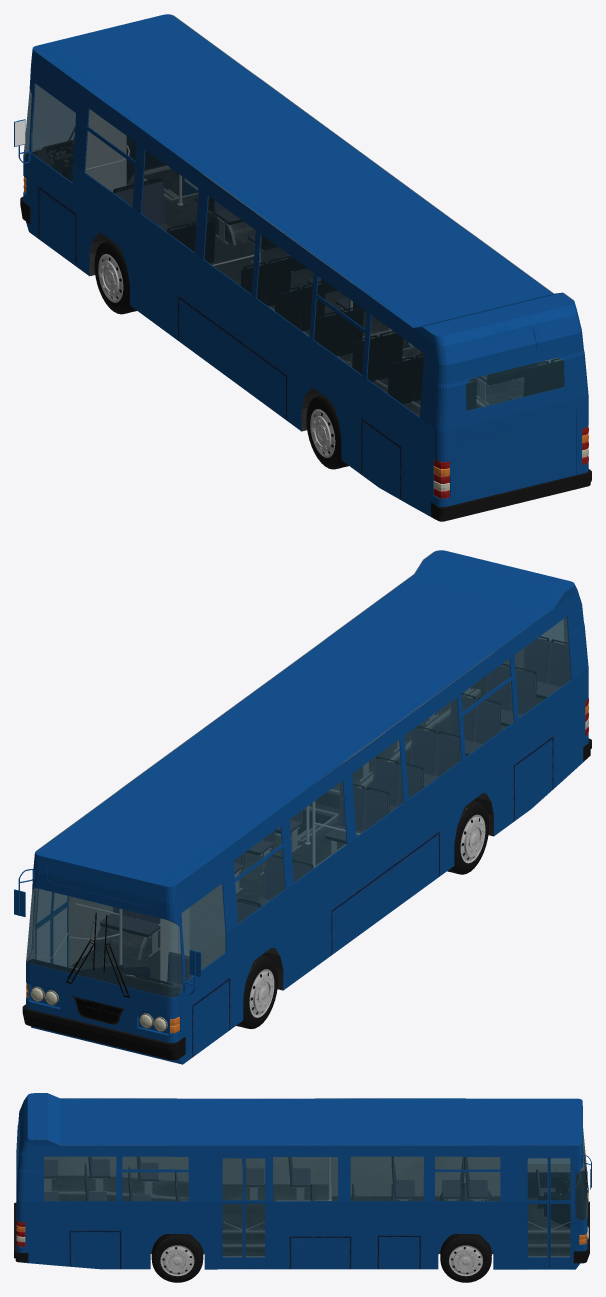
File: bus_fc497f.glb
The picture shows the model from 3 angles, top to bottom: view 1: azimuth 30°, elevation 25°; view 2: azimuth 150°, elevation 25°; view 3: azimuth 270°, elevation 25°; orthographic projection. The views are drawn at different scales.
Visible parts, largest first — view 1: body, wheel_fl, wheel_rl; view 2: body, wheel_fl, wheel_rl; view 3: body, wheel_fr, wheel_rr.
Part boxes in pixels (bbox=[...]): body: bbox=[14, 14, 591, 521]; wheel_fl: bbox=[92, 237, 136, 314]; wheel_rl: bbox=[306, 394, 348, 469]; body: bbox=[14, 550, 591, 1064]; wheel_fl: bbox=[236, 954, 277, 1028]; wheel_rl: bbox=[447, 800, 489, 874]; body: bbox=[14, 1093, 591, 1272]; wheel_fr: bbox=[440, 1234, 491, 1282]; wheel_rr: bbox=[151, 1234, 203, 1282].
Size of the model in its own units: 2.86 by 3.27 by 12.
8 materials, 8 textured.
